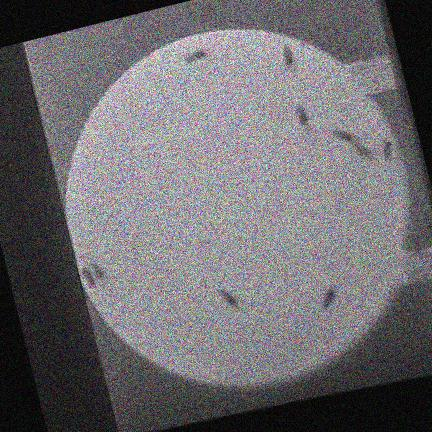fly: (219, 289, 241, 310), (350, 136, 370, 159), (295, 105, 309, 128), (321, 288, 336, 309), (79, 267, 94, 288), (183, 50, 205, 64), (91, 262, 107, 281), (281, 44, 293, 67), (333, 130, 353, 143), (381, 140, 392, 161)
